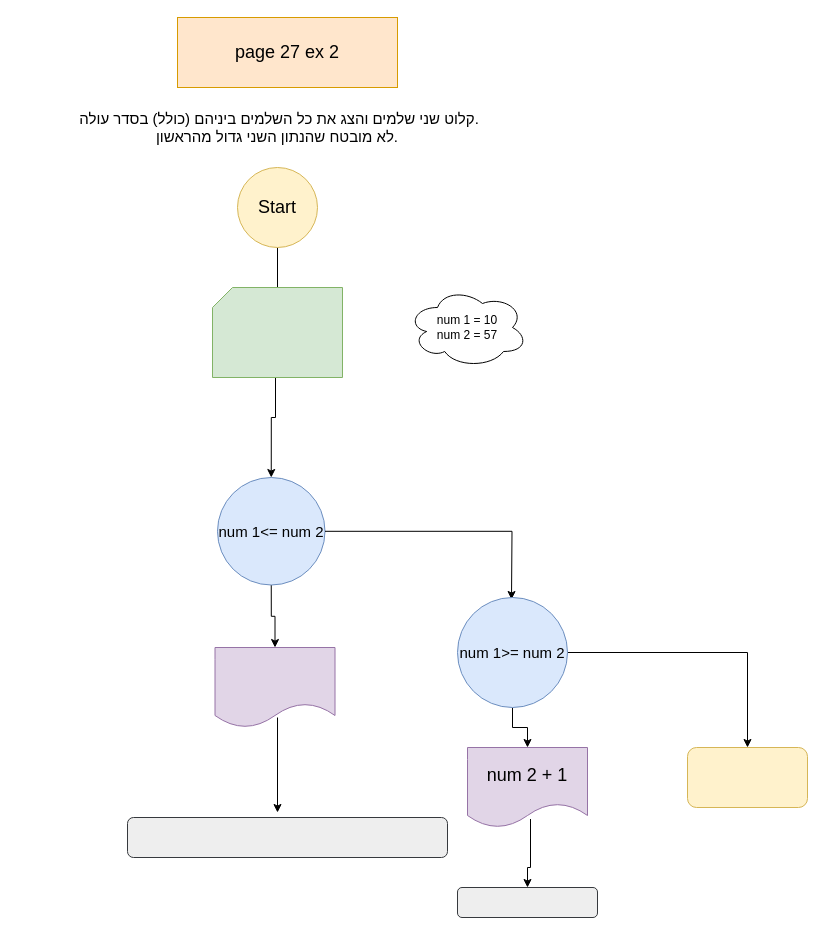
Some shapes in this 825 by 935 pixel diagram are drawn without their labels. The centre of each missing label's shape, as x and y in pixels:
num 1 + 1: point 274,687
num 1 num 2: point 277,332
Stop: point 747,777
